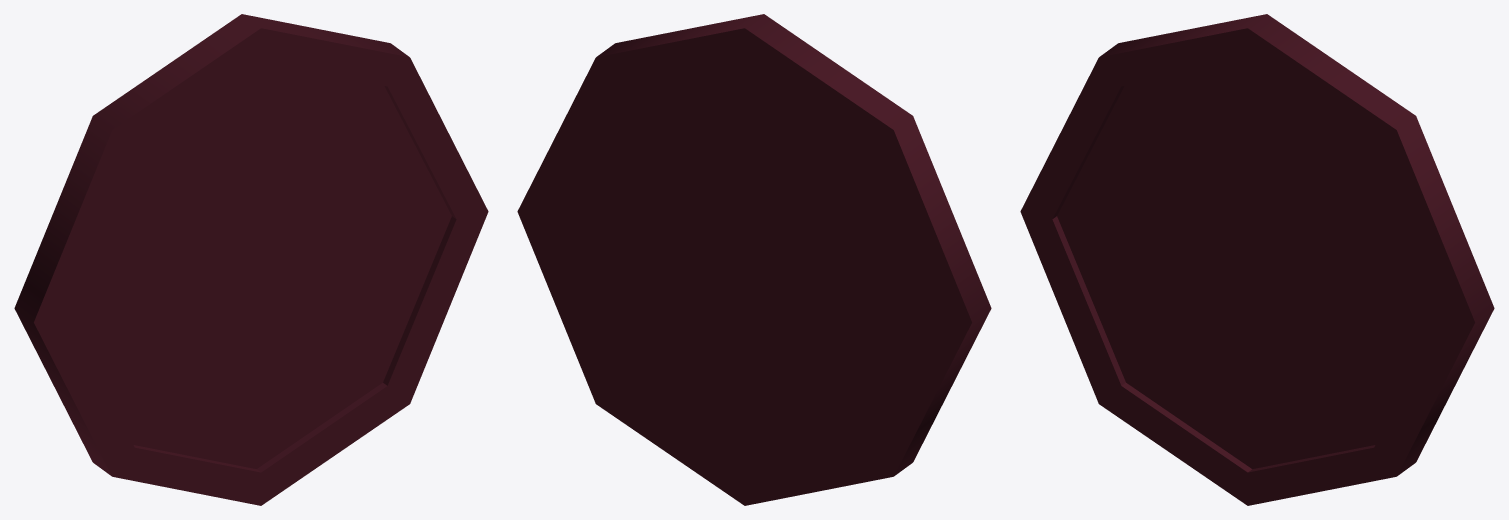
Rendered from Itr_Obj_Frame4_04.FBX.
3 renders of one model, left to right at view 1: azimuth 30°, elevation 25°; view 2: azimuth 150°, elevation 25°; view 3: azimuth 330°, elevation 25°, orthographic.
Visible parts, largest first — view 1: Itr_Obj_Frame4_04; view 2: Itr_Obj_Frame4_04; view 3: Itr_Obj_Frame4_04.
Boxes of the visible parts, x1,y1,x2,y2 form: Itr_Obj_Frame4_04: [14, 14, 488, 505]; Itr_Obj_Frame4_04: [517, 14, 991, 505]; Itr_Obj_Frame4_04: [1020, 14, 1494, 505].
Bounding box in the file's own units: 31.46 × 31.59 × 2.32.
